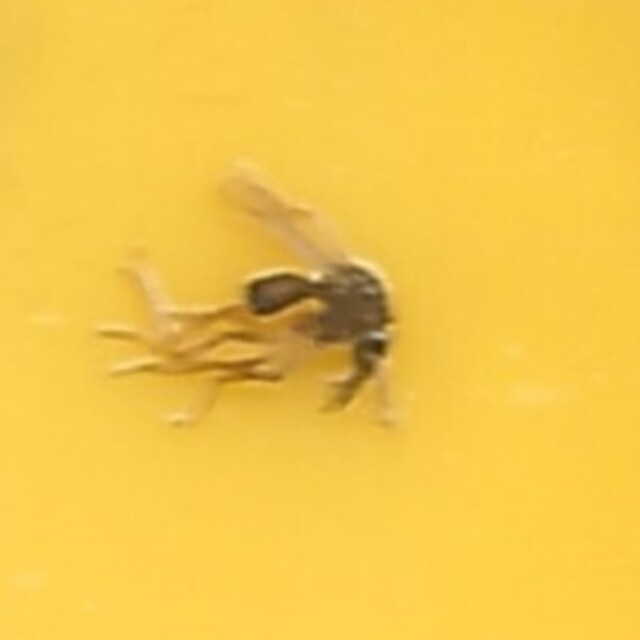Brachycera: (234, 253, 406, 387)
